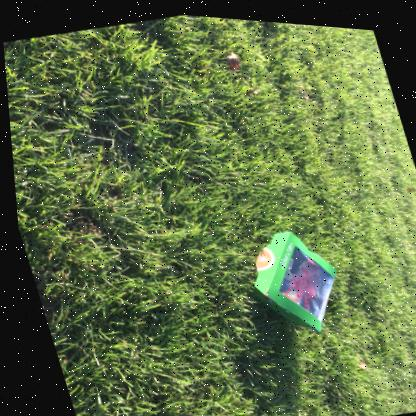Paper: (246, 227, 332, 328)
Plastic: (274, 242, 329, 318)
